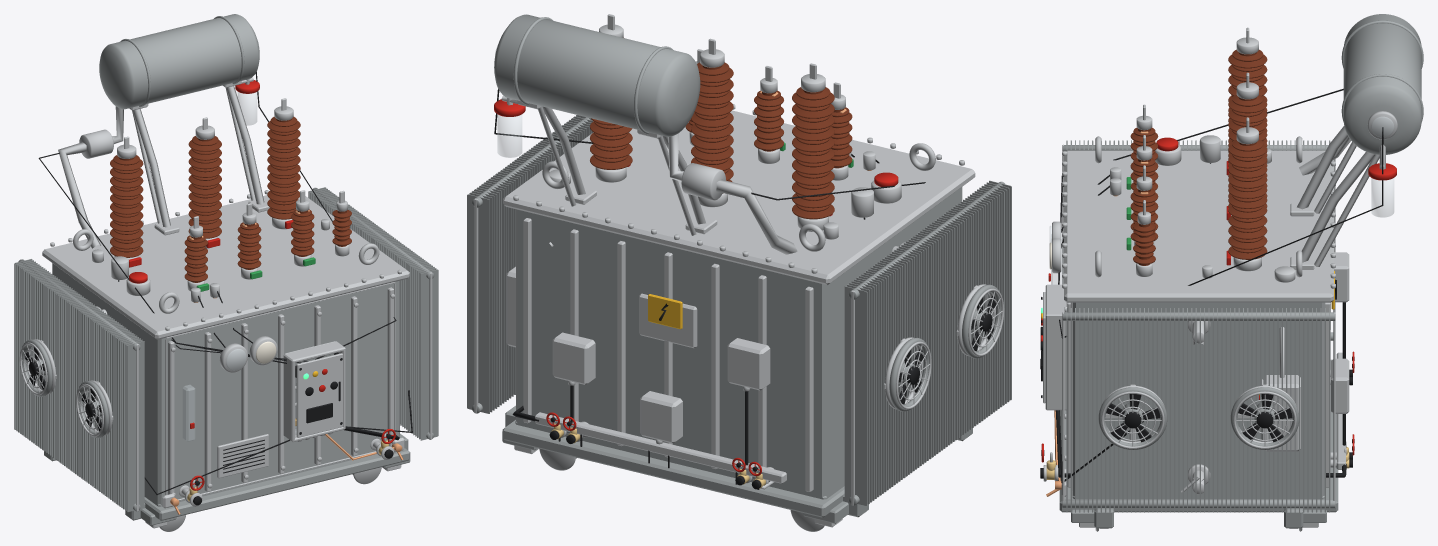
Rendered from Power_Transformer.glb.
The picture shows the model from 3 angles, left to right: view 1: azimuth 30°, elevation 25°; view 2: azimuth 150°, elevation 25°; view 3: azimuth 270°, elevation 25°; orthographic projection. The views are drawn at different scales.
Parts seen in each view (by area): view 1: TANK__Galvanized_Steel, TANK__Transformer_Gray, RAD_L__Radiator_Gray, CONSERVATOR__Transformer_Gray, RAD_R__Radiator_Gray, CABINET__Galvanized_Steel, BASE__Radiator_Gray, CONSERVATOR__Galvanized_Steel, HV_BUSH_1__Brown_Porcelain, HV_BUSH_3__Brown_Porcelain, HV_BUSH_2__Brown_Porcelain, BASE__Galvanized_Steel (+17 smaller); view 2: TANK__Transformer_Gray, TANK__Galvanized_Steel, RAD_L__Radiator_Gray, CONSERVATOR__Transformer_Gray, RAD_R__Radiator_Gray, REAR_JB__Galvanized_Steel, BASE__Radiator_Gray, HV_BUSH_1__Brown_Porcelain, HV_BUSH_2__Brown_Porcelain, CONSERVATOR__Galvanized_Steel, BASE__Galvanized_Steel, HV_BUSH_3__Brown_Porcelain (+18 smaller); view 3: TANK__Transformer_Gray, TANK__Galvanized_Steel, RAD_R__Radiator_Gray, CONSERVATOR__Transformer_Gray, HV_BUSH_3__Brown_Porcelain, CONSERVATOR__Galvanized_Steel, BASE__Radiator_Gray, CABINET__Galvanized_Steel, REAR_JB__Galvanized_Steel, FAN_R_N__Galvanized_Steel, FAN_R_P__Galvanized_Steel, HV_BUSH_2__Brown_Porcelain (+21 smaller).
Part boxes in pixels (box(x1,y1,x2,y2)): TANK__Galvanized_Steel: box(42, 142, 409, 500); TANK__Transformer_Gray: box(52, 263, 399, 506); RAD_L__Radiator_Gray: box(14, 259, 144, 512); CONSERVATOR__Transformer_Gray: box(99, 14, 259, 109); RAD_R__Radiator_Gray: box(308, 187, 438, 440); CABINET__Galvanized_Steel: box(283, 341, 345, 441); BASE__Radiator_Gray: box(44, 433, 410, 525); CONSERVATOR__Galvanized_Steel: box(129, 77, 269, 235); HV_BUSH_1__Brown_Porcelain: box(110, 155, 143, 257); HV_BUSH_3__Brown_Porcelain: box(267, 117, 300, 219); HV_BUSH_2__Brown_Porcelain: box(188, 136, 221, 238); BASE__Galvanized_Steel: box(73, 229, 404, 531); TANK__Transformer_Gray: box(515, 187, 962, 499); TANK__Galvanized_Steel: box(503, 104, 975, 491); RAD_L__Radiator_Gray: box(844, 180, 1011, 505); CONSERVATOR__Transformer_Gray: box(494, 14, 700, 136); RAD_R__Radiator_Gray: box(467, 115, 593, 413); REAR_JB__Galvanized_Steel: box(535, 332, 786, 483); BASE__Radiator_Gray: box(502, 405, 972, 523); HV_BUSH_1__Brown_Porcelain: box(792, 87, 834, 219); HV_BUSH_2__Brown_Porcelain: box(691, 62, 733, 193); CONSERVATOR__Galvanized_Steel: box(501, 96, 717, 235); BASE__Galvanized_Steel: box(514, 143, 935, 531); HV_BUSH_3__Brown_Porcelain: box(590, 118, 632, 169); TANK__Transformer_Gray: box(1072, 302, 1325, 499); TANK__Galvanized_Steel: box(1062, 136, 1350, 491); RAD_R__Radiator_Gray: box(1062, 308, 1335, 512); CONSERVATOR__Transformer_Gray: box(1341, 14, 1423, 154); HV_BUSH_3__Brown_Porcelain: box(1228, 139, 1267, 259); CONSERVATOR__Galvanized_Steel: box(1290, 126, 1385, 269); BASE__Radiator_Gray: box(1059, 359, 1338, 528); CABINET__Galvanized_Steel: box(1043, 284, 1067, 410); REAR_JB__Galvanized_Steel: box(1331, 252, 1349, 469); FAN_R_N__Galvanized_Steel: box(1101, 384, 1164, 448); FAN_R_P__Galvanized_Steel: box(1233, 384, 1296, 448); HV_BUSH_2__Brown_Porcelain: box(1228, 94, 1267, 207).
Bounding box in the file's own units: 7.8 × 8.55 × 6.68.
